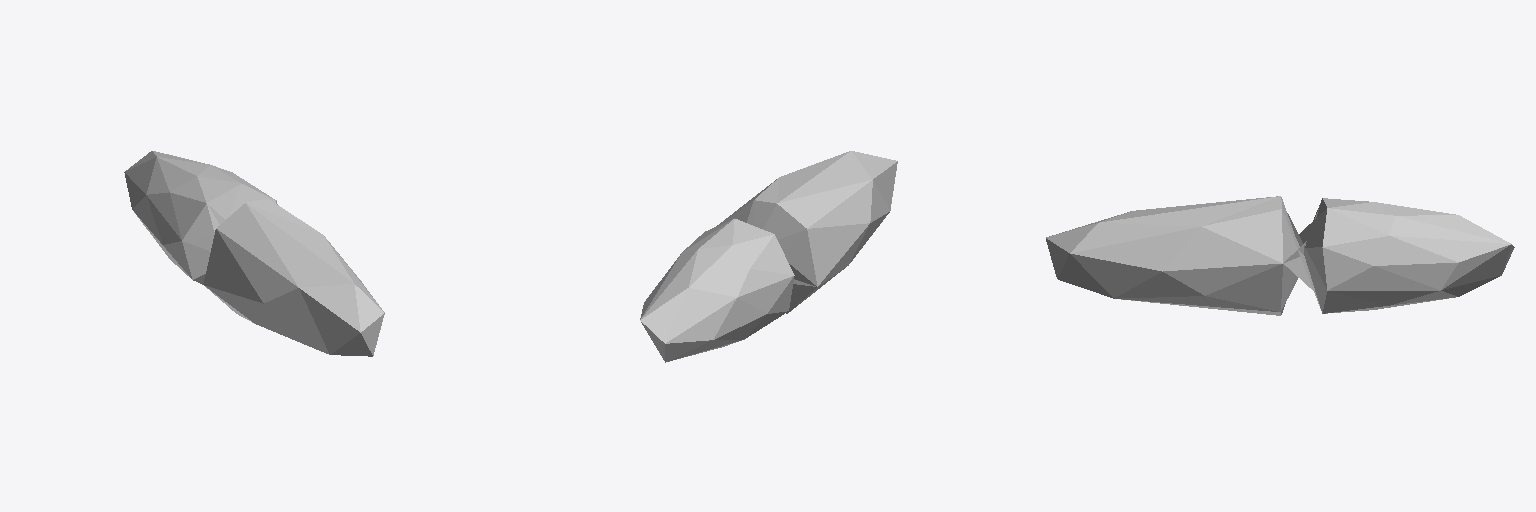
The model's file is Tower-ICECRYSTAL.obj.
The picture shows the model from 3 angles: view 1: azimuth 30°, elevation 25°; view 2: azimuth 150°, elevation 25°; view 3: azimuth 270°, elevation 25°; orthographic projection.
Visible parts, largest first — view 1: initialShadingGroup initialShadingGroup1 pCylinder3 polySurface4; view 2: initialShadingGroup initialShadingGroup1 pCylinder3 polySurface4; view 3: initialShadingGroup initialShadingGroup1 pCylinder3 polySurface4.
Part boxes in pixels (x1,y1,x2,y2): initialShadingGroup initialShadingGroup1 pCylinder3 polySurface4: (124, 151, 384, 356); initialShadingGroup initialShadingGroup1 pCylinder3 polySurface4: (640, 151, 897, 362); initialShadingGroup initialShadingGroup1 pCylinder3 polySurface4: (1046, 196, 1514, 315).
Size of the model in its own units: 0.362 by 0.3738 by 1.44.